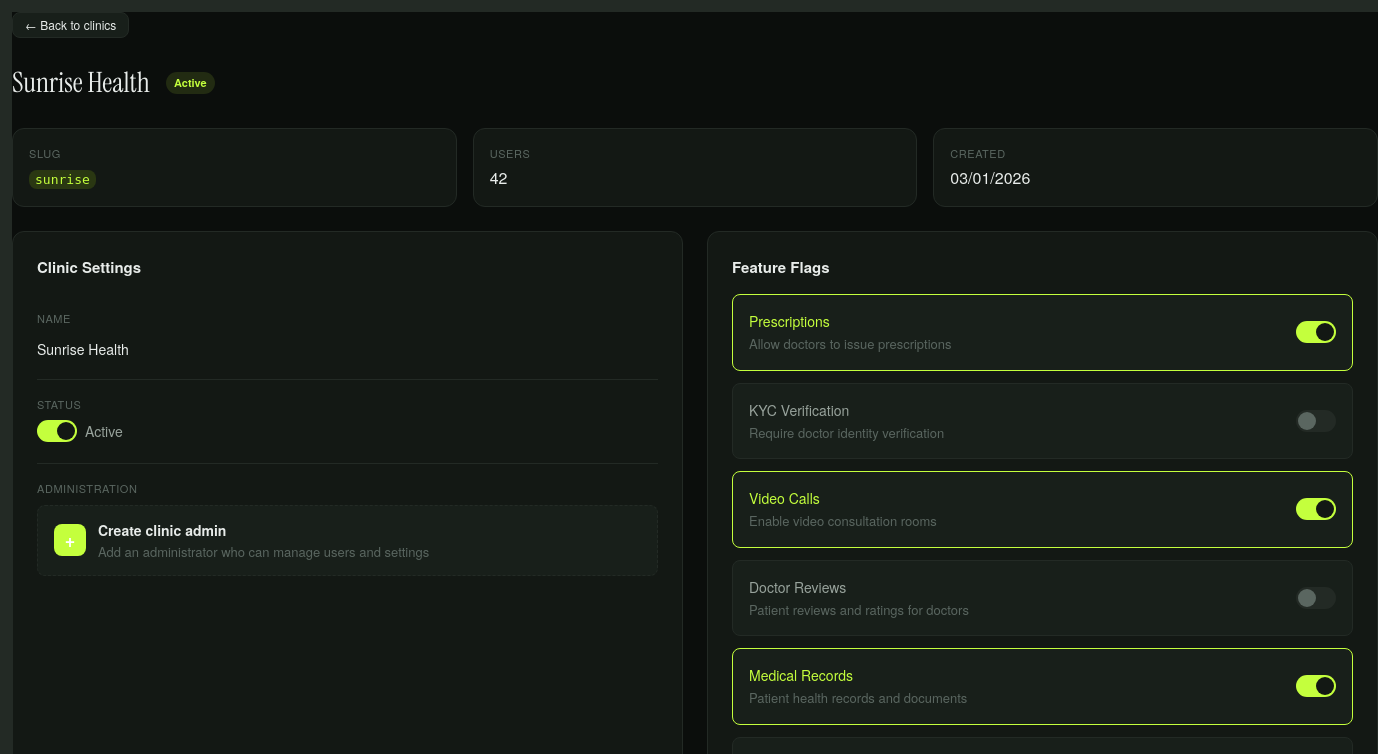
ClinicDetailPage › name inline editing › clicking the name field enters edit mode with input prefilled
Click the button "Sunrise Health".
click(83, 348)  # box [37, 334, 658, 362]
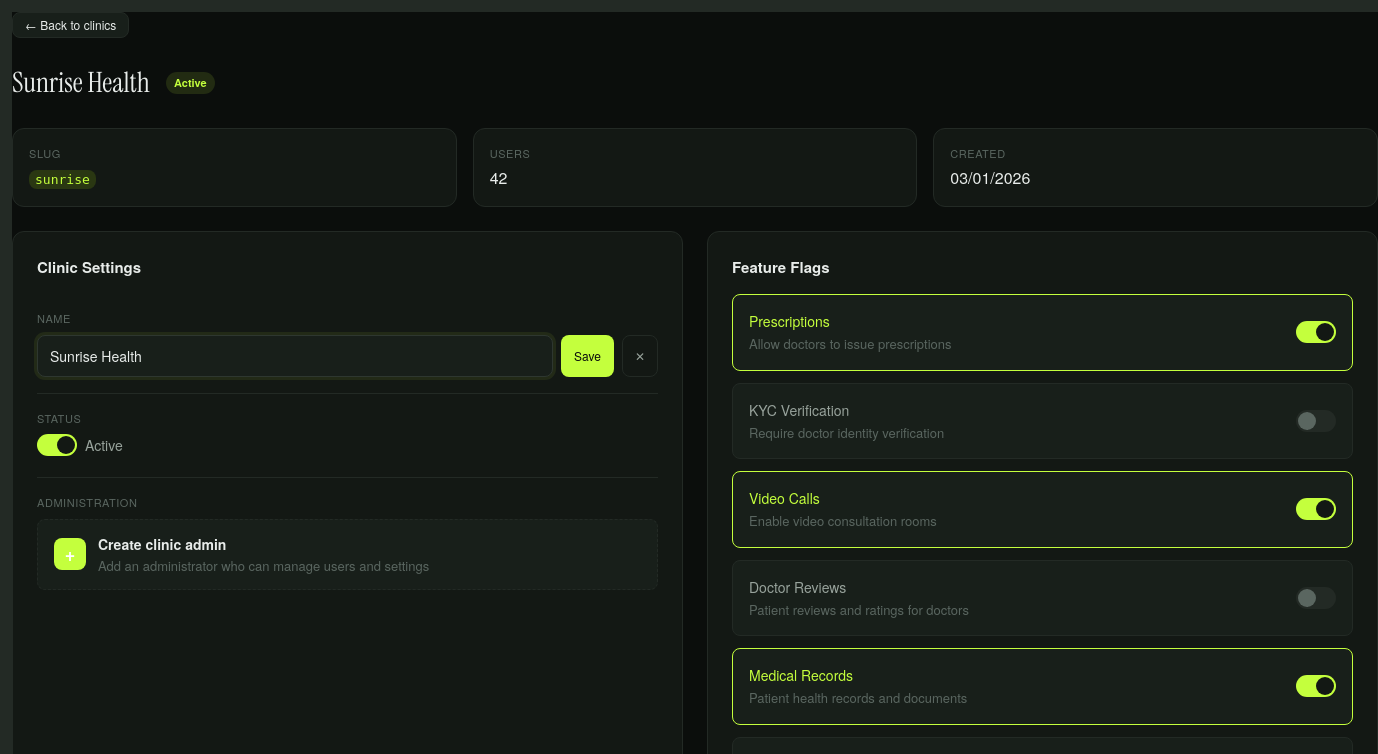
Now the field showing "Sunrise Health" is shown, box [37, 334, 553, 376]
Now the element with class "settings-field-editing" is shown, box [37, 334, 658, 376]
